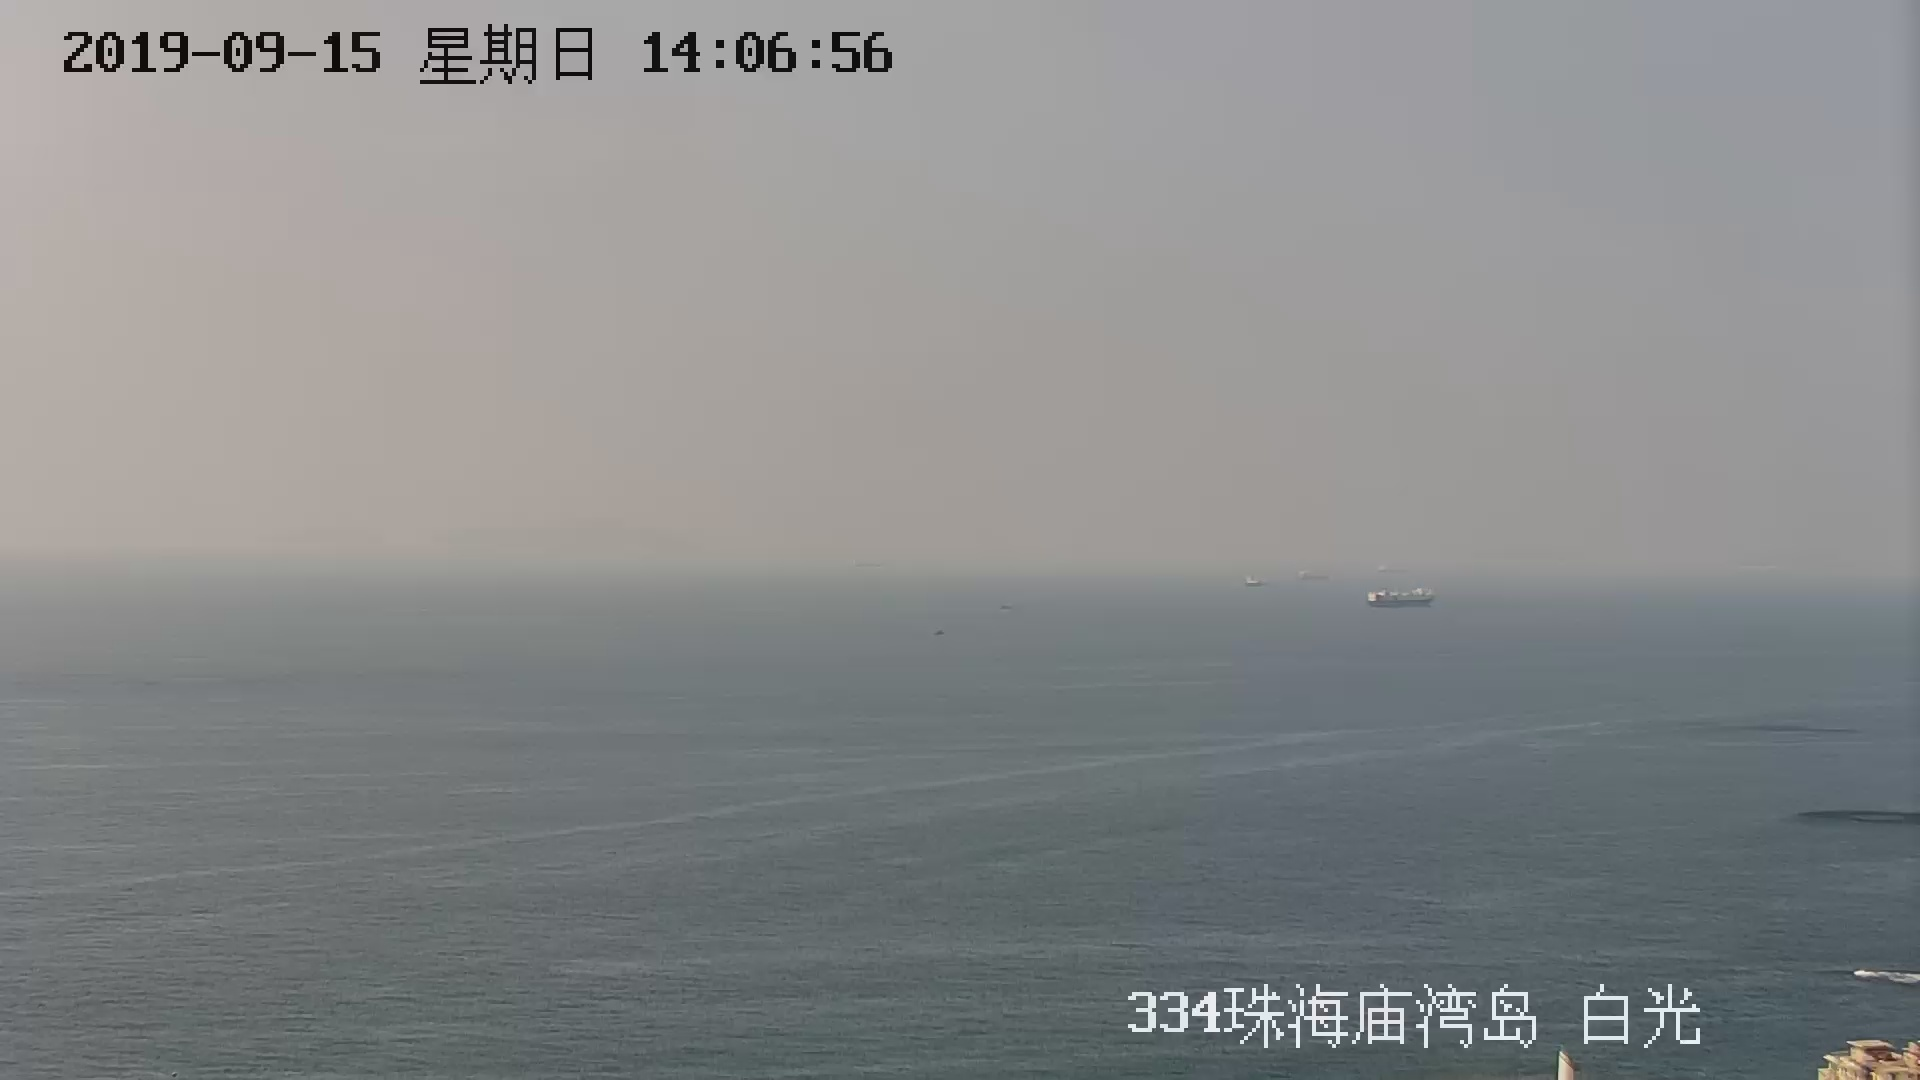ship: (1367, 585, 1436, 608)
